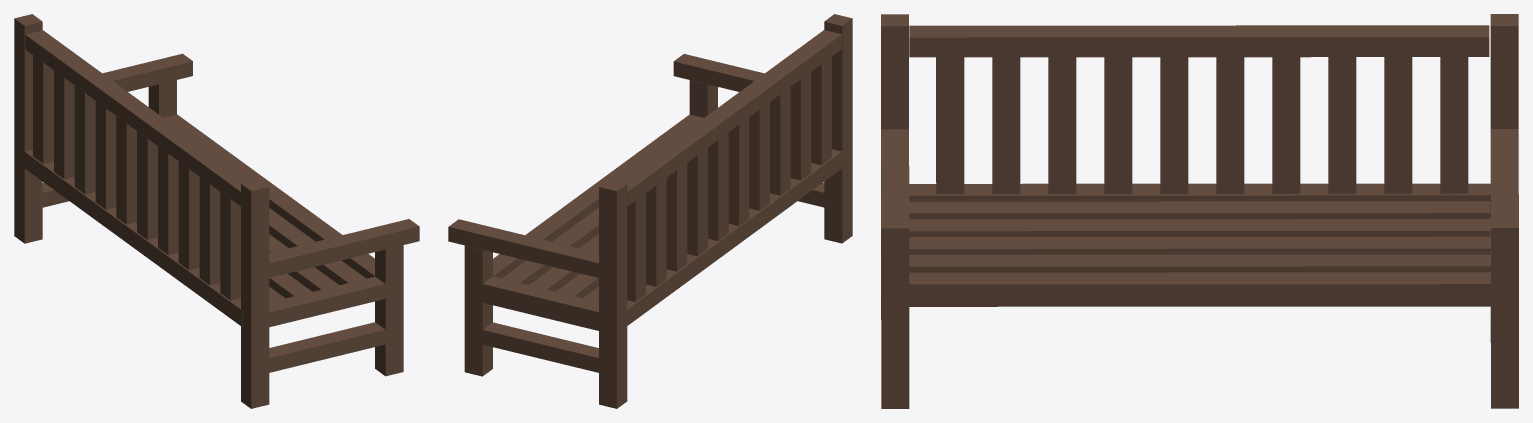
Rendered from bench.fbx.
3 views of the same model, side by side, from view 1: azimuth 30°, elevation 25°; view 2: azimuth 150°, elevation 25°; view 3: azimuth 270°, elevation 25° (orthographic). The views are drawn at different scales.
Visible parts, largest first — view 1: bench; view 2: bench; view 3: bench.
Part boxes in pixels (left/top/right/bottom): bench: left=14, top=14, right=419, bottom=408; bench: left=448, top=14, right=852, bottom=408; bench: left=881, top=14, right=1518, bottom=408.
Size of the model in its own units: 830 by 1022 by 2009.
